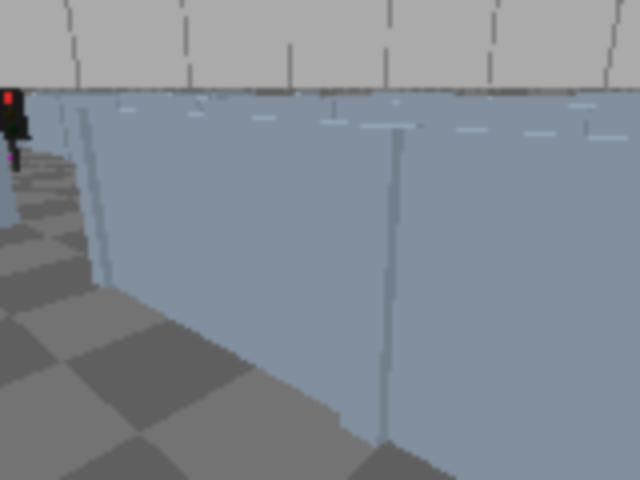traffic_light: (0, 84, 36, 173)
